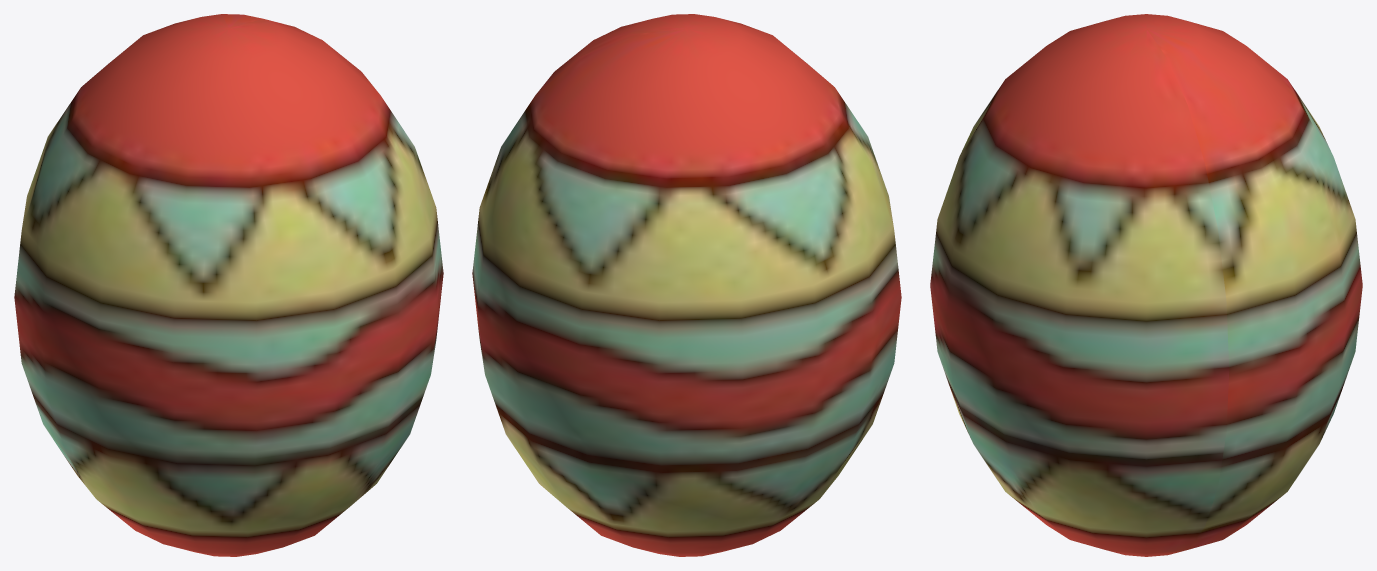
File: egg_09.fbx
3 renders of one model, left to right at view 1: azimuth 30°, elevation 25°; view 2: azimuth 150°, elevation 25°; view 3: azimuth 270°, elevation 25°, orthographic.
Visible parts, largest first — view 1: egg_09; view 2: egg_09; view 3: egg_09.
Part boxes in pixels (left/top/right/bottom): egg_09: left=14, top=14, right=443, bottom=556; egg_09: left=472, top=14, right=901, bottom=556; egg_09: left=930, top=14, right=1362, bottom=556.
Size of the model in its own units: 9.95 by 13.02 by 9.95.
